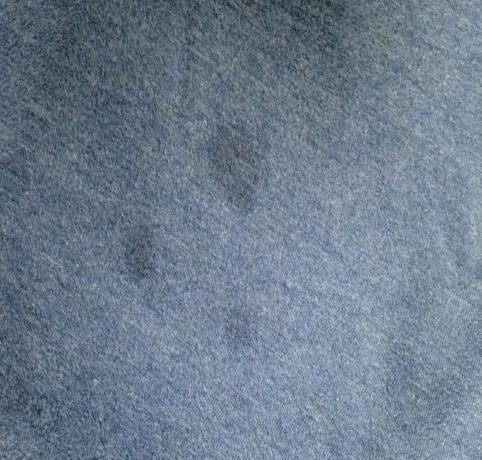stain: (204, 111, 283, 213), (123, 221, 169, 286), (219, 302, 264, 366)
